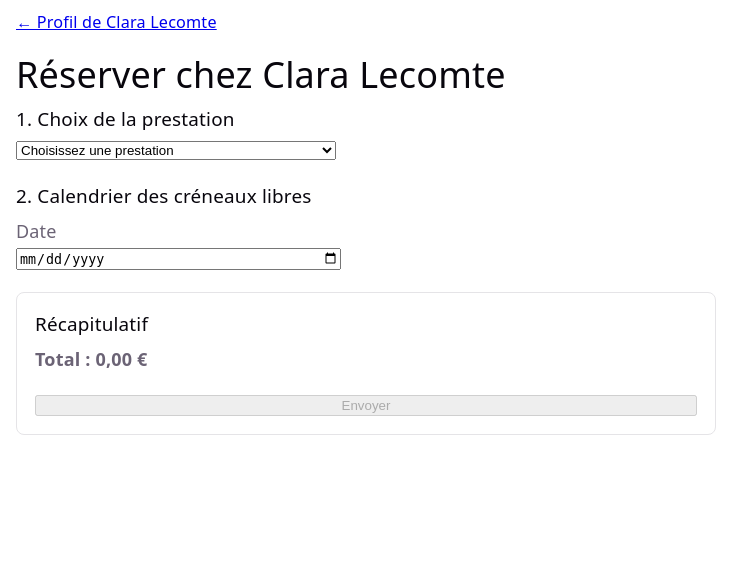
it: Reservation (#29, scénarios 14 et 22) › envoie la réservation choisie et affiche le statut En attente (scénario 14)
The image size is (733, 576).
Select "Reportage mariage — 8 h — 1 200,00 €" in the dropdown at {"x": 176, "y": 151}, box [16, 141, 336, 160]
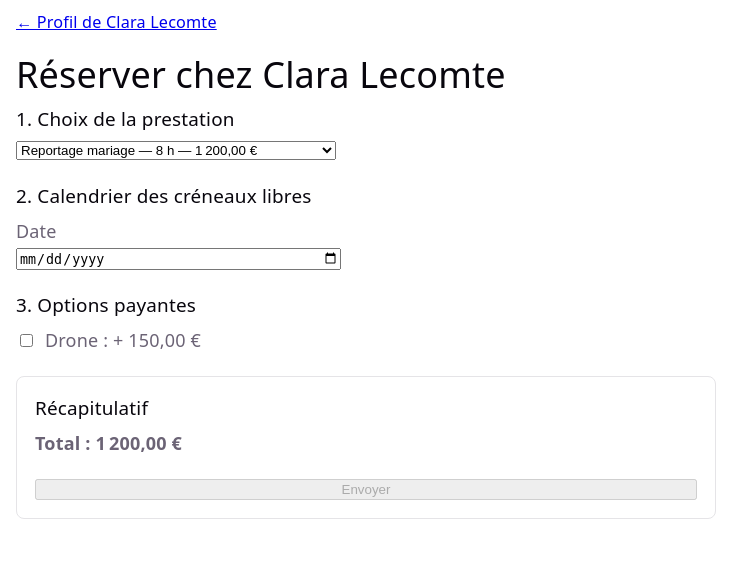
Type "2027-04-02" into the date field labelled "Date".
click(178, 259); type("2027-04-02")  # box [16, 248, 341, 270]
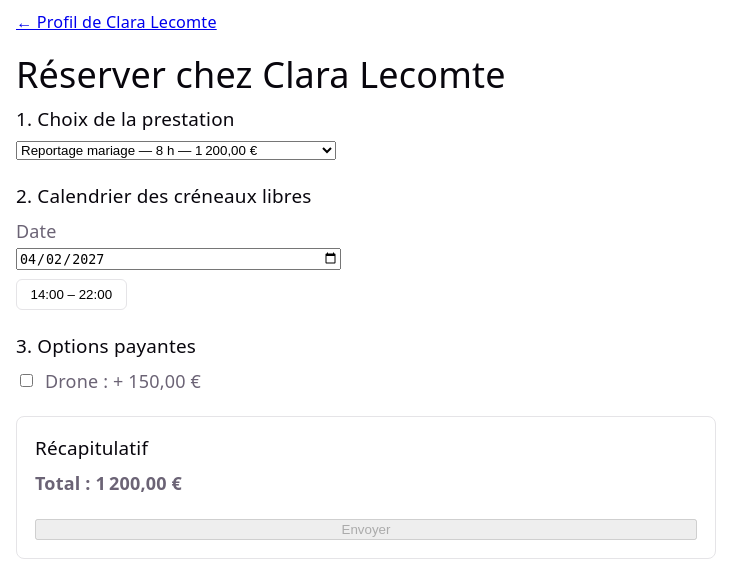
Click the button "14:00 – 22:00".
click(71, 294)  # box [16, 279, 126, 310]
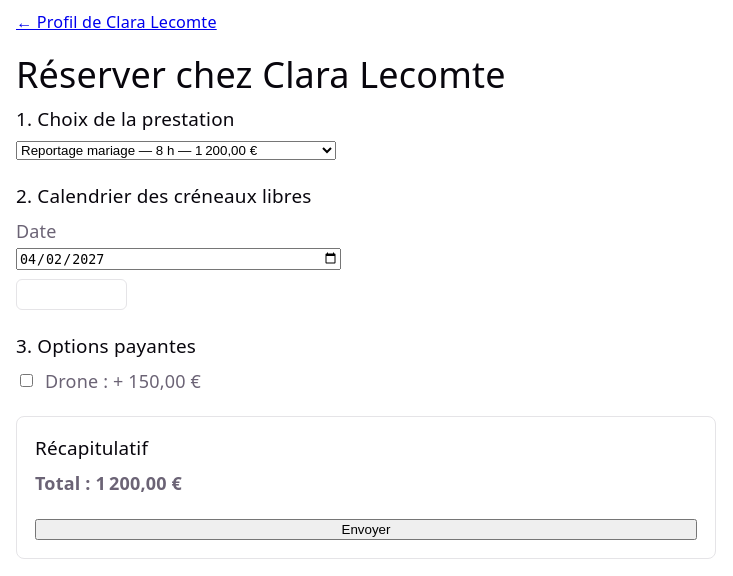
Click the button "Envoyer".
click(366, 530)  # box [35, 519, 697, 540]
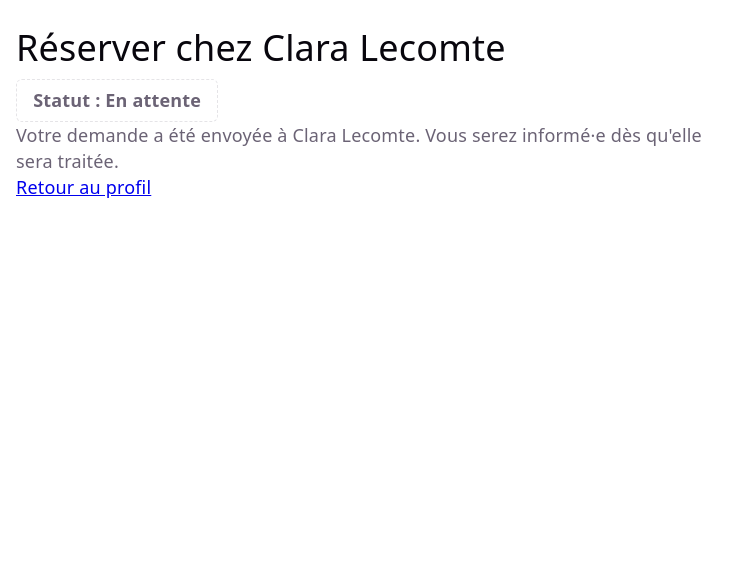
Check: the text "Statut : En attente" is shown, box [16, 79, 218, 122]
